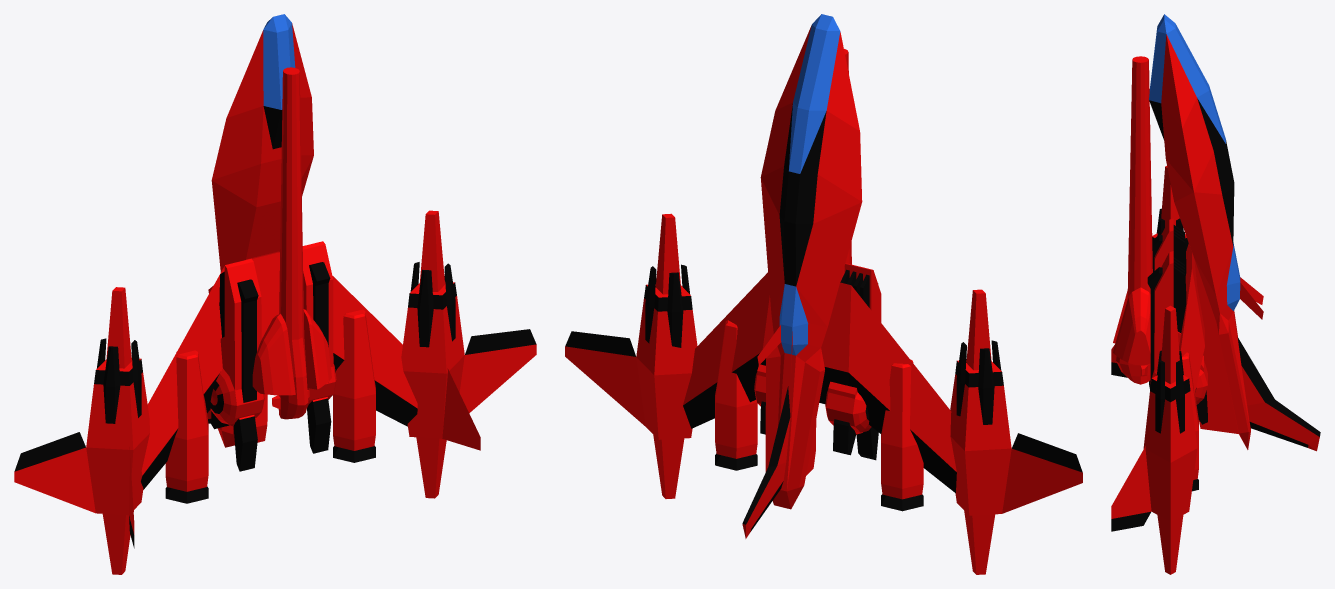
File: fighter.glb
The picture shows the model from 3 angles, left to right: view 1: azimuth 30°, elevation 25°; view 2: azimuth 150°, elevation 25°; view 3: azimuth 270°, elevation 25°; orthographic projection. The views are drawn at different scales.
Visible parts, largest first — view 1: Fighter; view 2: Fighter; view 3: Fighter.
Part boxes in pixels (x1,y1,x2,y2): Fighter: [14, 14, 536, 574]; Fighter: [565, 14, 1082, 574]; Fighter: [1111, 14, 1320, 574].
Bounding box in the file's own units: 2 × 1.91 × 0.7479.
